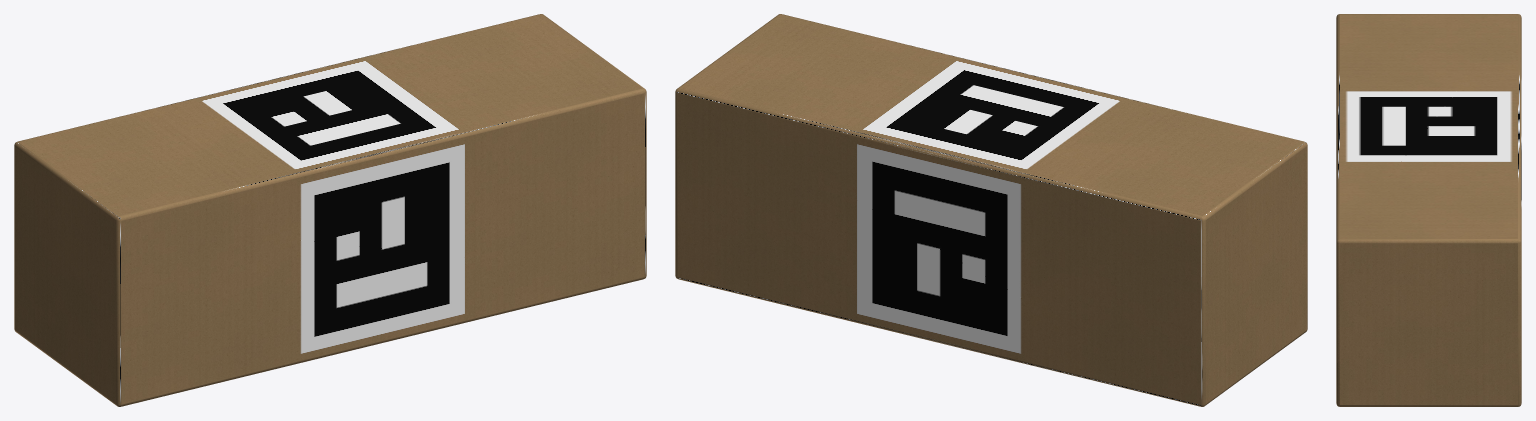
File: Stone.fbx
3 views of the same model, side by side, from view 1: azimuth 30°, elevation 25°; view 2: azimuth 150°, elevation 25°; view 3: azimuth 270°, elevation 25° (orthographic). The views are drawn at different scales.
Parts seen in each view (by area): view 1: Stone; view 2: Stone; view 3: Stone.
Part boxes in pixels (x1,y1,x2,y2): Stone: (14,14,646,406); Stone: (675,14,1307,406); Stone: (1336,14,1521,406).
Bounding box in the file's own units: 32 × 11 × 11.
